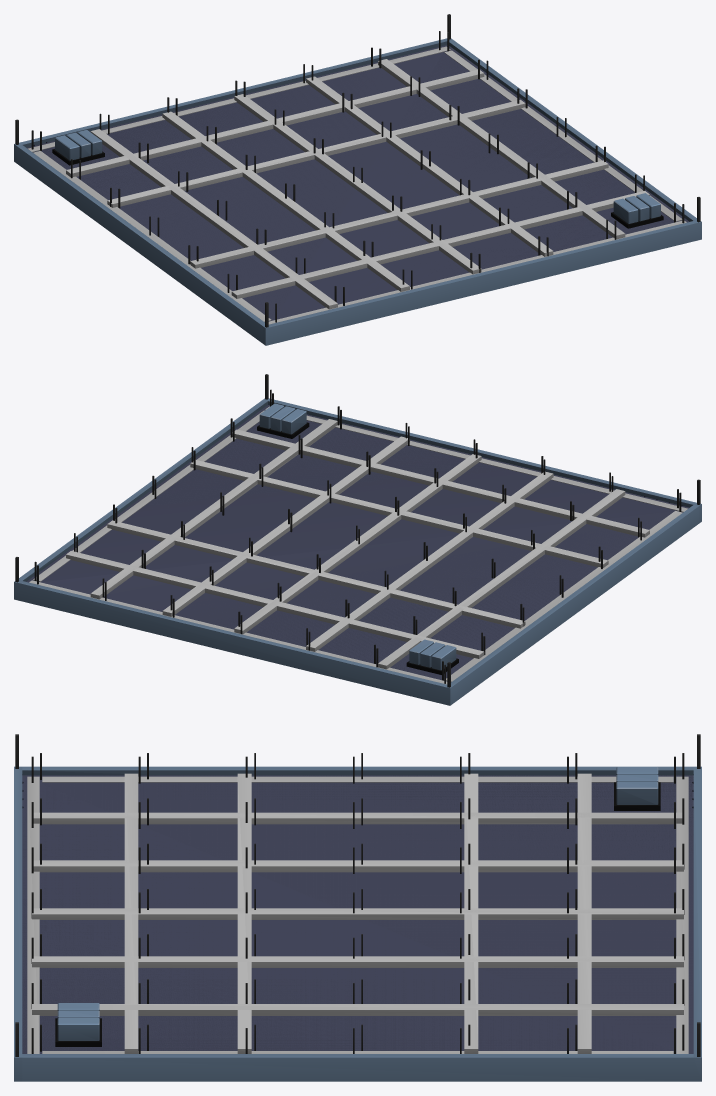
File: veyran_construction_center_foundation.glb
3 renders of one model, top to bottom at view 1: azimuth 30°, elevation 25°; view 2: azimuth 150°, elevation 25°; view 3: azimuth 270°, elevation 25°, orthographic. The views are drawn at different scales.
Visible parts, largest first — view 1: body (×3); view 2: body (×3); view 3: body (×3).
Boxes of the visible parts, x1,y1,x2,y2 form: body (×3): (14,14,701,345); body (×3): (14,374,701,705); body (×3): (14,734,701,1081).
Size of the model in its own units: 14.78 by 1.35 by 14.78.
